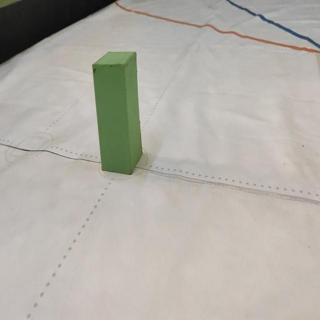greenbox: (93, 50, 144, 176)
